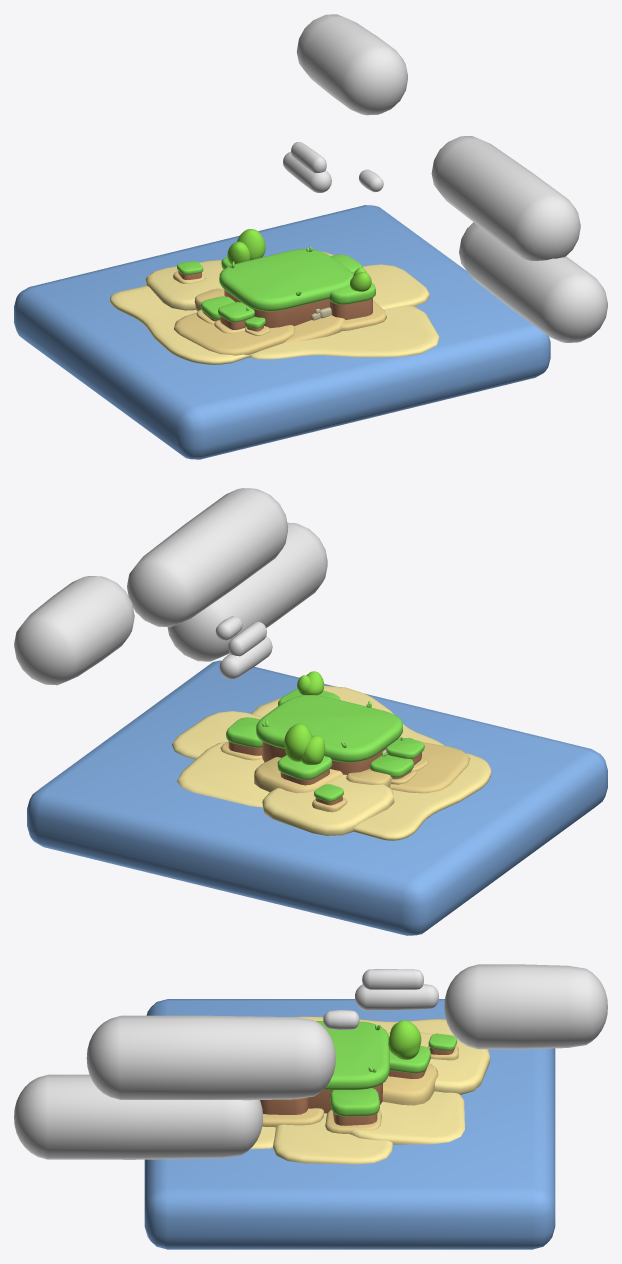
Rendered from Level test.fbx.
3 renders of one model, top to bottom at view 1: azimuth 30°, elevation 25°; view 2: azimuth 150°, elevation 25°; view 3: azimuth 270°, elevation 25°, orthographic. The views are drawn at different scales.
Visible parts, largest first — view 1: Plane, Sphere.027, Sphere.028, Sphere.026, Cube.077, Cube.110, Cube.109, Cube.070, Cube.066, Cube.105, Cube.076, Cube.071 (+5 smaller); view 2: Plane, Sphere.027, Sphere.026, Sphere.028, Cube.077, Cube.066, Cube.109, Cube.067, Cube.070, Cube.105, Cube.100, Cube.110 (+8 smaller); view 3: Plane, Sphere.027, Sphere.028, Sphere.026, Cube.067, Cube.105, Cube.077, Cube.066, Sphere.023, Cube.100, Cube.107, Sphere.024 (+11 smaller).
Boxes of the visible parts, x1,y1,x2,y2 form: Plane: [14, 205, 550, 459]; Sphere.027: [431, 136, 580, 260]; Sphere.028: [459, 222, 607, 342]; Sphere.026: [296, 14, 407, 115]; Cube.077: [219, 249, 353, 311]; Cube.110: [250, 305, 439, 359]; Cube.109: [110, 285, 254, 364]; Cube.070: [174, 312, 295, 355]; Cube.066: [145, 260, 223, 310]; Cube.105: [362, 264, 429, 309]; Cube.076: [224, 290, 329, 328]; Cube.071: [284, 315, 345, 342]; Plane: [27, 660, 607, 935]; Sphere.027: [127, 488, 287, 627]; Sphere.026: [14, 576, 134, 685]; Sphere.028: [167, 522, 327, 661]; Cube.077: [256, 695, 402, 762]; Cube.066: [262, 774, 394, 835]; Cube.109: [353, 753, 491, 840]; Cube.067: [177, 741, 269, 807]; Cube.070: [389, 742, 470, 793]; Cube.105: [172, 711, 262, 759]; Cube.100: [254, 757, 342, 793]; Cube.110: [251, 685, 444, 745]; Plane: [144, 999, 555, 1249]; Sphere.027: [86, 1015, 335, 1100]; Sphere.028: [14, 1074, 262, 1159]; Sphere.026: [444, 964, 607, 1049]; Cube.067: [350, 1091, 464, 1144]; Cube.105: [273, 1113, 392, 1164]; Cube.077: [316, 1021, 389, 1090]; Cube.066: [387, 1032, 490, 1094]; Sphere.023: [355, 984, 438, 1010]; Cube.100: [382, 1063, 438, 1105]; Cube.107: [330, 1088, 379, 1116]; Sphere.024: [362, 969, 423, 989].
Bounding box in the file's own units: 17513 × 10358 × 20811.
